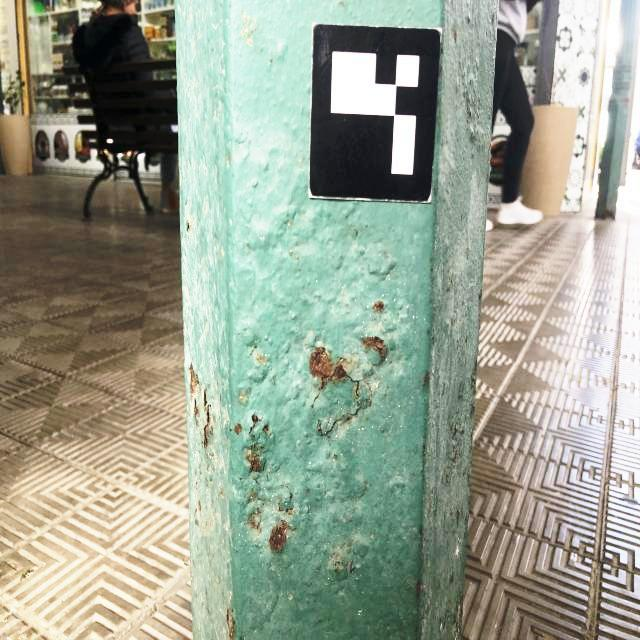Corrosion: (309, 345, 361, 399), (318, 398, 374, 437), (268, 520, 292, 551), (360, 335, 388, 360), (189, 361, 200, 416), (203, 392, 212, 449), (246, 446, 262, 472), (249, 413, 262, 437), (248, 509, 261, 529), (227, 611, 234, 640), (372, 300, 385, 312), (415, 580, 422, 600), (235, 423, 242, 436), (263, 424, 271, 435), (286, 506, 294, 515), (424, 373, 429, 384), (453, 30, 457, 40)
